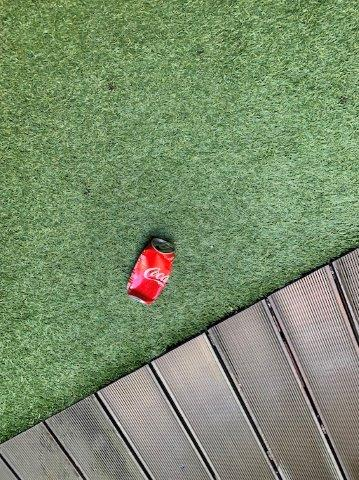kaleng: (128, 239, 174, 303)
